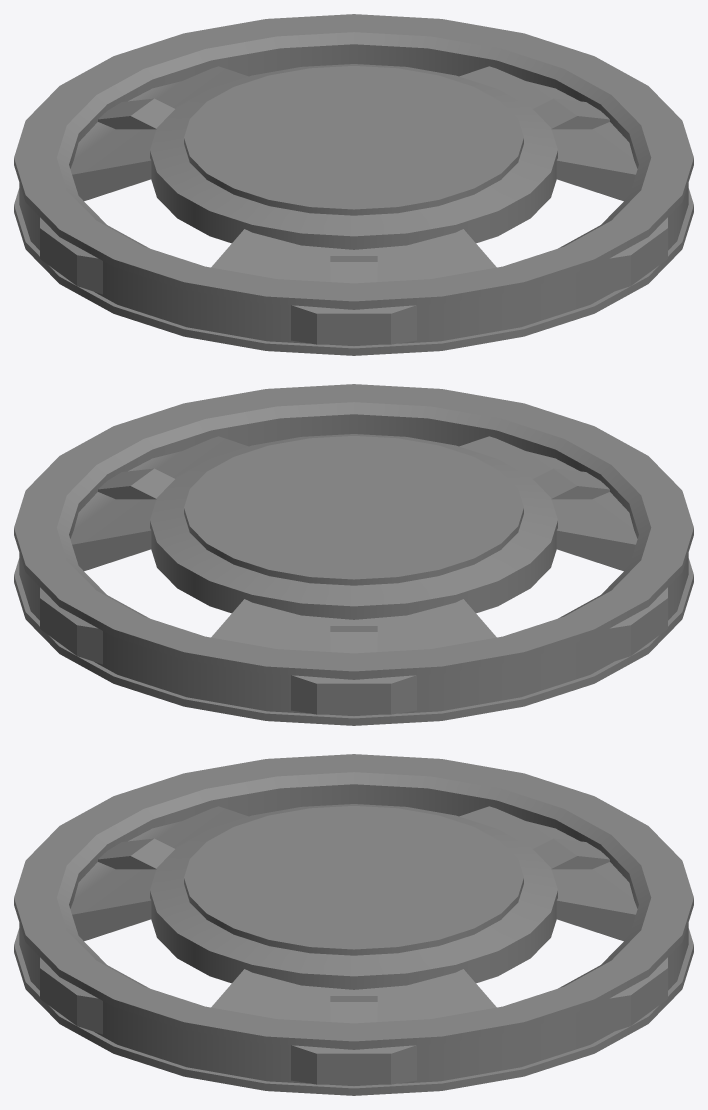
File: Saturn_S4_25mFairingBase.dae
The picture shows the model from 3 angles, top to bottom: view 1: azimuth 30°, elevation 25°; view 2: azimuth 150°, elevation 25°; view 3: azimuth 270°, elevation 25°; orthographic projection.
Parts seen in each view (by area): view 1: SIV_25_FairingBase2; view 2: SIV_25_FairingBase2; view 3: SIV_25_FairingBase2.
Part boxes in pixels (x1,y1,x2,y2): SIV_25_FairingBase2: (14, 14, 693, 355); SIV_25_FairingBase2: (14, 384, 693, 725); SIV_25_FairingBase2: (14, 754, 693, 1095).
Size of the model in its own units: 2.51 by 0.3024 by 2.5.
